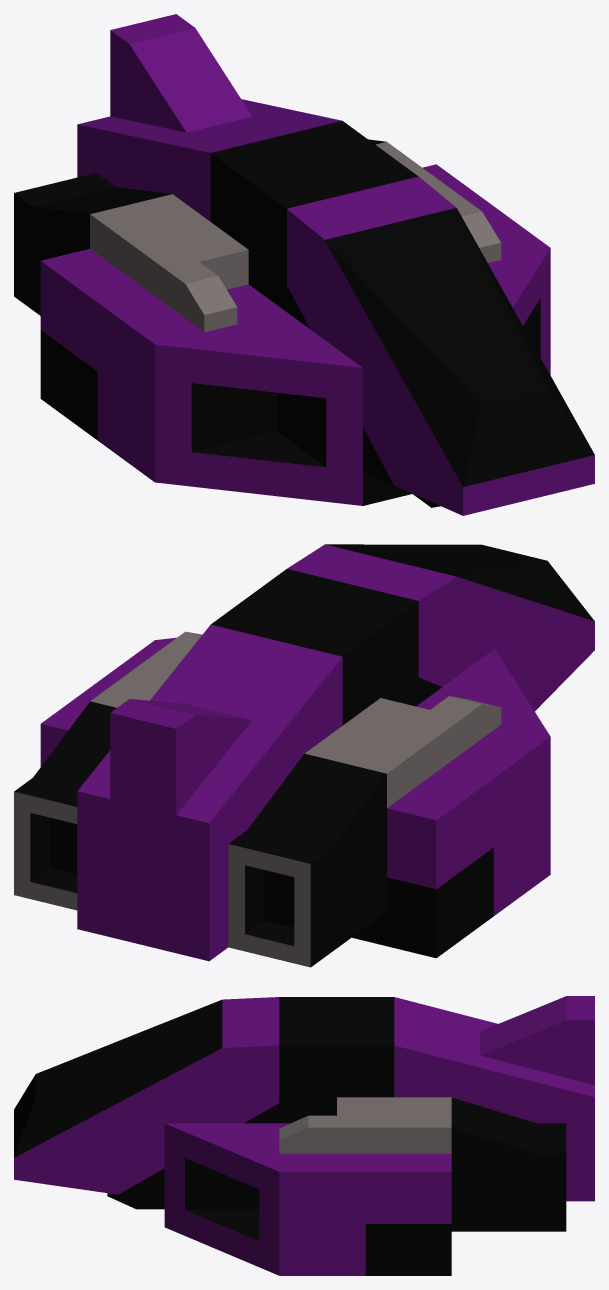
The model's file is craft_racer.obj.
3 renders of one model, top to bottom at view 1: azimuth 30°, elevation 25°; view 2: azimuth 150°, elevation 25°; view 3: azimuth 270°, elevation 25°, orthographic. The views are drawn at different scales.
Parts seen in each view (by area): view 1: craft_racer; view 2: craft_racer; view 3: craft_racer.
Boxes of the visible parts, <box> form: craft_racer: <box>14,14,594,515</box>; craft_racer: <box>14,544,594,967</box>; craft_racer: <box>14,996,594,1275</box>.
Size of the model in its own units: 1.2 by 0.75 by 2.03.
